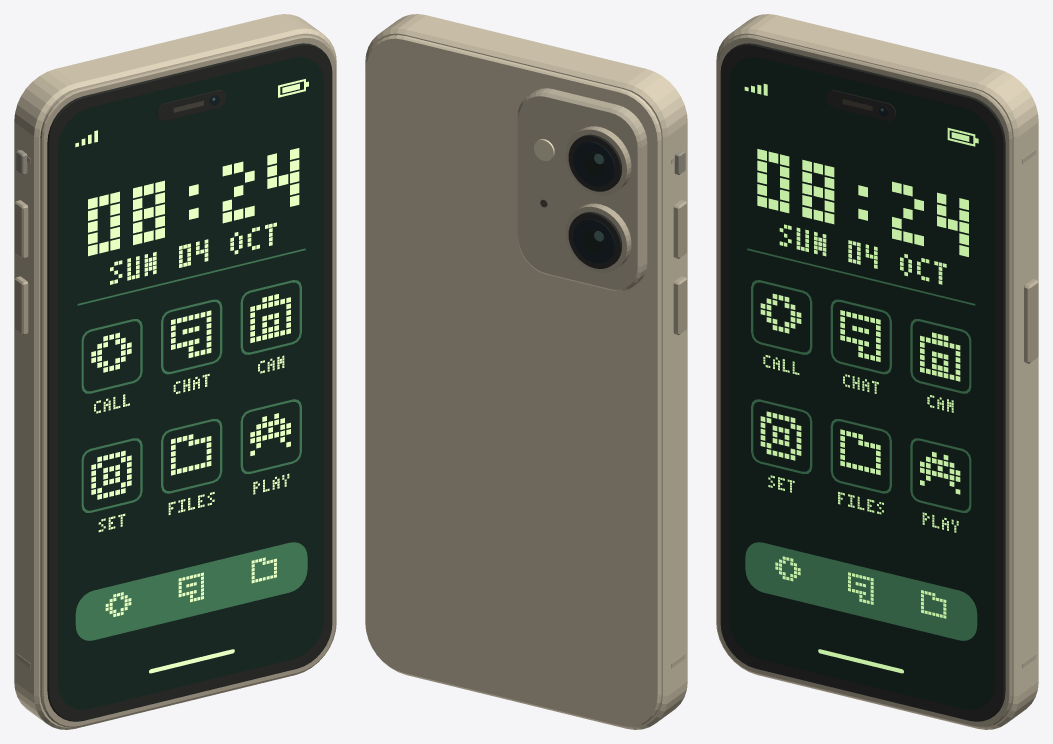
The model's file is retro-smartphone.glb.
3 views of the same model, side by side, from view 1: azimuth 30°, elevation 25°; view 2: azimuth 150°, elevation 25°; view 3: azimuth 330°, elevation 25° (orthographic).
Parts seen in each view (by area): view 1: Smartphone touchscreen, Smartphone cream frame, Smartphone display bezel, Smartphone screen graphics, Smartphone front rim, Smartphone app dock, Smartphone app outlines, Smartphone volume key, Smartphone camera pill; view 2: Smartphone cream back, Smartphone cream frame, Smartphone rear camera island, Smartphone rear lens ring, Smartphone rear lens glass, Smartphone rear lens gasket, Smartphone volume key, Smartphone rear lens optic; view 3: Smartphone touchscreen, Smartphone cream frame, Smartphone display bezel, Smartphone screen graphics, Smartphone front rim, Smartphone app dock, Smartphone app outlines, Smartphone power key, Smartphone camera pill.
Part boxes in pixels (left/top/right/bottom): Smartphone touchscreen: left=58, top=57, right=324, bottom=709; Smartphone cream frame: left=14, top=14, right=336, bottom=729; Smartphone display bezel: left=47, top=43, right=332, bottom=721; Smartphone screen graphics: left=75, top=79, right=308, bottom=616; Smartphone front rim: left=40, top=34, right=335, bottom=727; Smartphone app dock: left=75, top=542, right=307, bottom=640; Smartphone app outlines: left=81, top=280, right=301, bottom=512; Smartphone volume key: left=15, top=200, right=28, bottom=335; Smartphone camera pill: left=156, top=90, right=226, bottom=121; Smartphone cream back: left=365, top=35, right=661, bottom=727; Smartphone cream frame: left=365, top=14, right=687, bottom=729; Smartphone rear camera island: left=517, top=88, right=647, bottom=291; Smartphone rear lens ring: left=565, top=126, right=631, bottom=272; Smartphone rear lens glass: left=573, top=142, right=614, bottom=263; Smartphone rear lens gasket: left=568, top=134, right=621, bottom=268; Smartphone volume key: left=673, top=200, right=686, bottom=335; Smartphone rear lens optic: left=582, top=152, right=604, bottom=253; Smartphone touchscreen: left=728, top=57, right=994, bottom=709; Smartphone cream frame: left=716, top=14, right=1038, bottom=729; Smartphone display bezel: left=720, top=43, right=1005, bottom=721; Smartphone screen graphics: left=744, top=83, right=978, bottom=618; Smartphone front rim: left=717, top=34, right=1012, bottom=727; Smartphone app dock: left=745, top=542, right=977, bottom=640; Smartphone app outlines: left=751, top=280, right=971, bottom=512; Smartphone power key: left=1024, top=279, right=1038, bottom=363; Smartphone camera pill: left=826, top=90, right=896, bottom=121.
Bounding box in the file's own units: 1.68 × 3.3 × 0.428.
